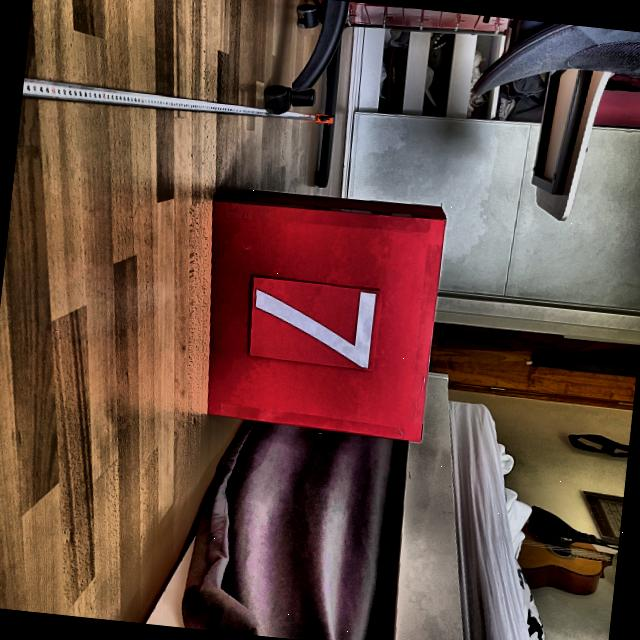red box: (185, 182, 448, 442)
seven: (248, 280, 378, 370)
